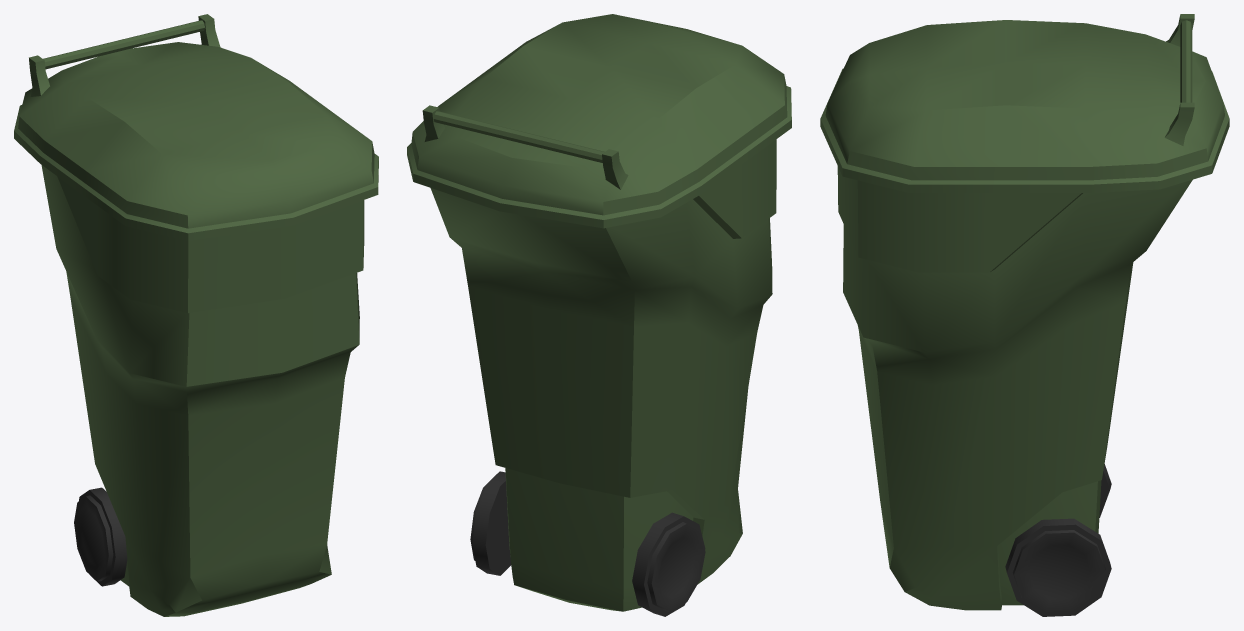
Rendered from Trashcan_Green.glb.
The picture shows the model from 3 angles, left to right: view 1: azimuth 30°, elevation 25°; view 2: azimuth 150°, elevation 25°; view 3: azimuth 270°, elevation 25°; orthographic projection. The views are drawn at different scales.
Parts seen in each view (by area): view 1: Trashcan_Green; view 2: Trashcan_Green; view 3: Trashcan_Green.
Boxes of the visible parts, x1,y1,x2,y2 form: Trashcan_Green: (14, 14, 378, 616); Trashcan_Green: (407, 14, 791, 616); Trashcan_Green: (820, 14, 1229, 616).
Bounding box in the file's own units: 0.5952 × 1.08 × 0.7782.
Materials: 2 (2 with a texture image).
